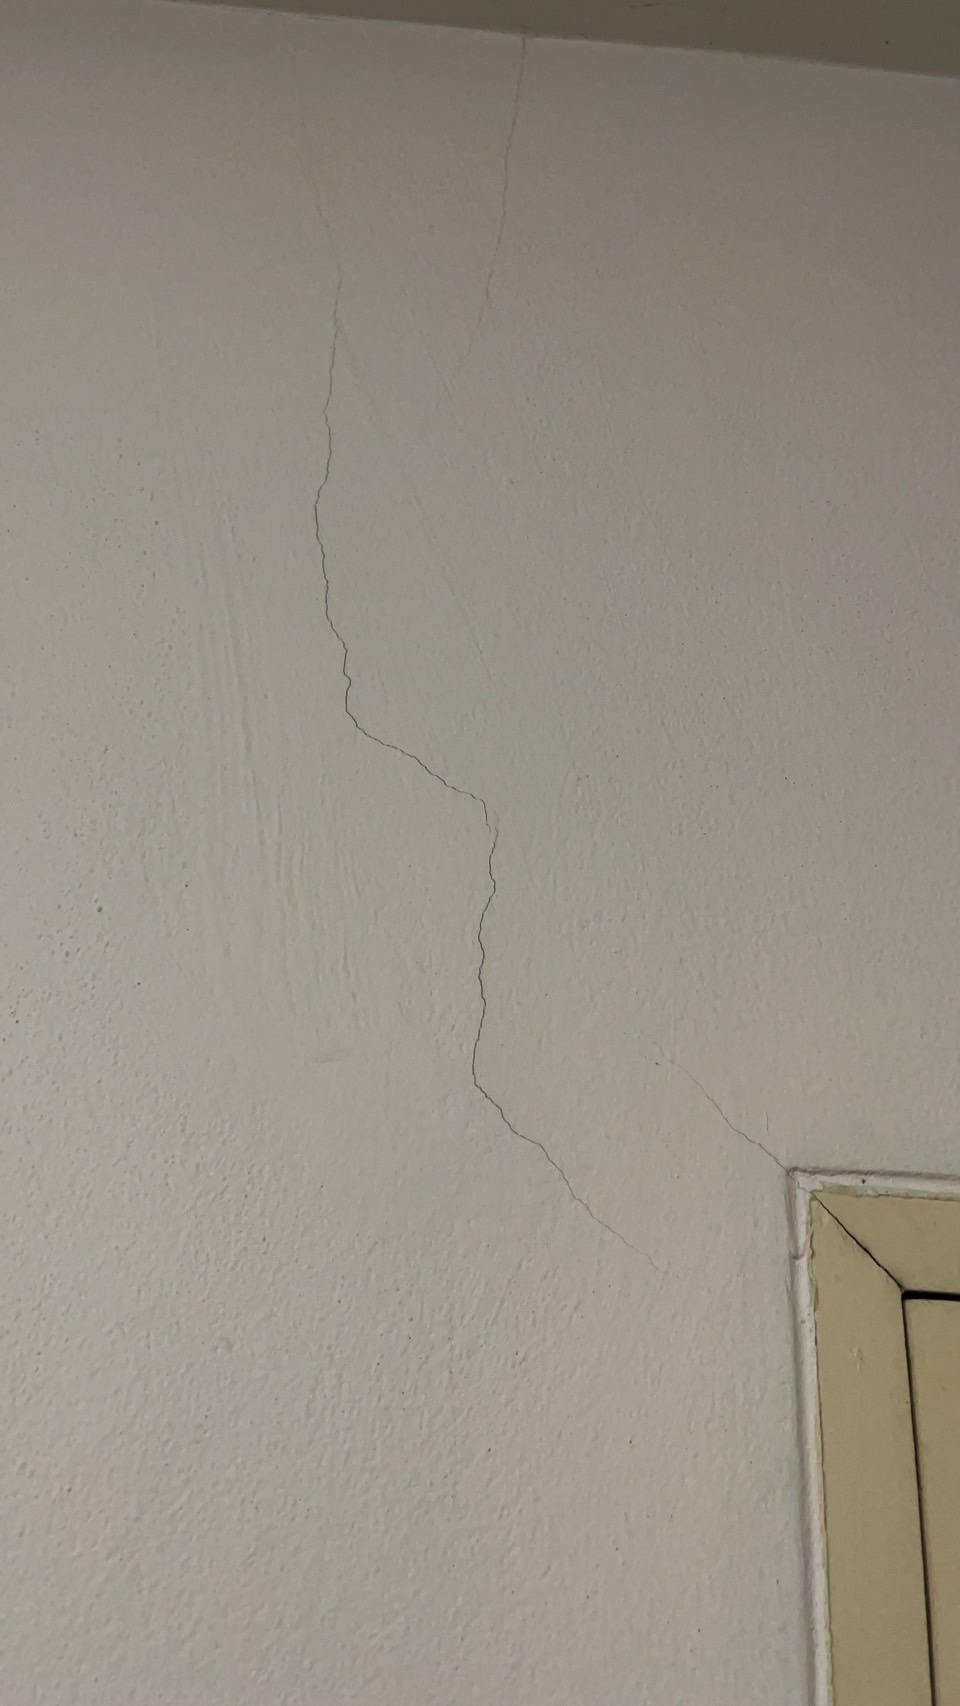Low: (222, 180, 828, 1329)
